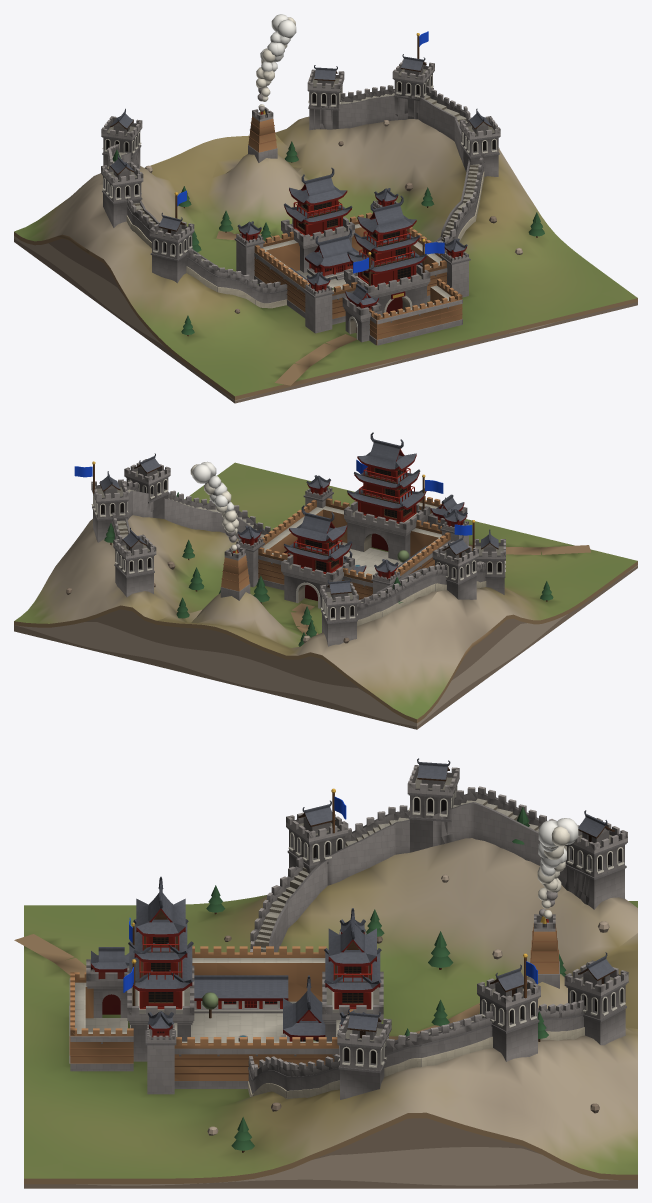
File: lm_seddkalesi.glb
3 views of the same model, one above another, from view 1: azimuth 30°, elevation 25°; view 2: azimuth 150°, elevation 25°; view 3: azimuth 270°, elevation 25° (orthographic). The views are drawn at different scales.
Parts seen in each view (by area): view 1: lm_seddkalesi; view 2: lm_seddkalesi; view 3: lm_seddkalesi.
Boxes of the visible parts, box(x1,y1,x2,y2) form: lm_seddkalesi: box(14, 14, 637, 403); lm_seddkalesi: box(14, 432, 637, 729); lm_seddkalesi: box(14, 758, 637, 1188).
Size of the model in its own units: 2.36 by 1.05 by 2.28.
1 material, 1 textured.
